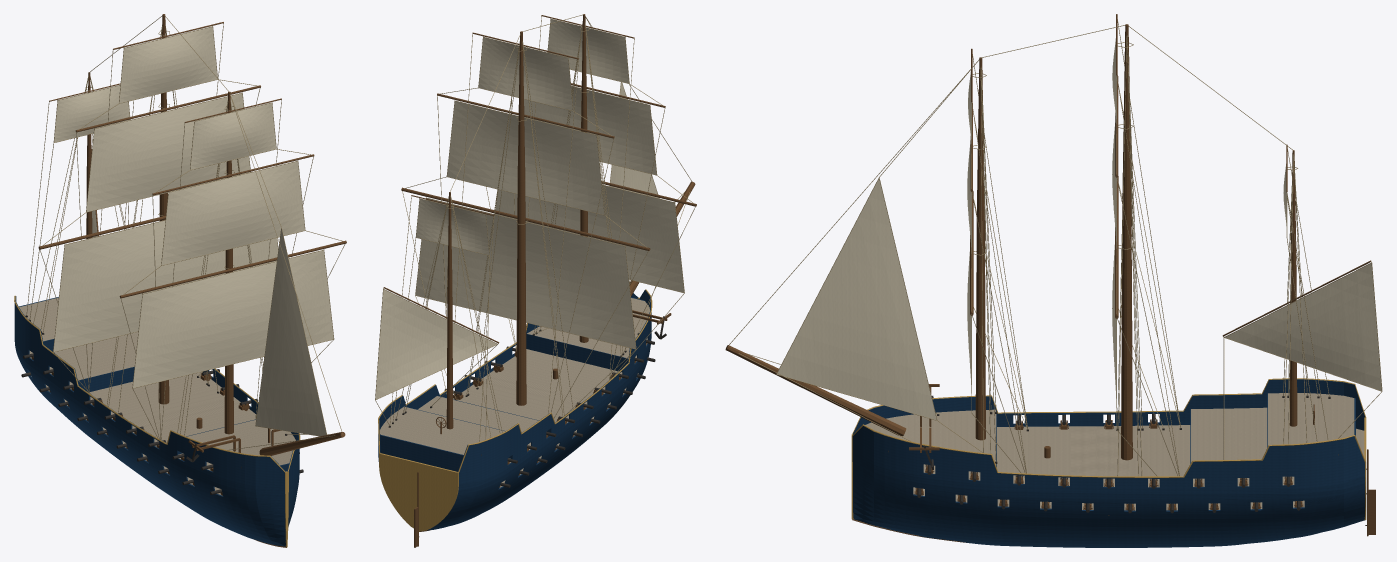
3 renders of one model, left to right at view 1: azimuth 30°, elevation 25°; view 2: azimuth 150°, elevation 25°; view 3: azimuth 270°, elevation 25°, orthographic. The views are drawn at different scales.
Parts seen in each view (by area): view 1: lod1_hull_shell_starboard, lod1_fore_square_00, lod1_main_square_00, lod1_main_square_01, lod1_fore_square_01, lod1_jib_00, lod1_main_deck, lod1_main_square_02, lod1_fore_square_02, lod1_mizzen_square_00, lod1_castle_deck_1, lod1_castle_deck_2 (+13 smaller); view 2: lod1_main_square_00, lod1_main_square_01, lod1_hull_shell_starboard, lod1_fore_square_00, lod1_mizzen_lateen_01, lod1_main_deck, lod1_fore_square_01, lod1_main_square_02, lod1_stern_closure, lod1_fore_square_02, lod1_castle_deck_0, lod1_main (+15 smaller); view 3: lod1_hull_shell_port, lod1_jib_00, lod1_mizzen_lateen_01, lod1_main_deck, lod1_hull_shell_starboard, lod1_main, lod1_castle_deck_1, lod1_castle_deck_0, lod1_castle_deck_2, lod1_fore, lod1_bowsprit, lod1_mizzen (+2 smaller).
Part boxes in pixels (left/top/right/bottom): lod1_hull_shell_starboard: left=14, top=296, right=285, bottom=546; lod1_fore_square_00: left=133, top=250, right=333, bottom=387; lod1_main_square_00: left=53, top=220, right=278, bottom=351; lod1_main_square_01: left=86, top=93, right=250, bottom=211; lod1_fore_square_01: left=161, top=161, right=304, bottom=265; lod1_jib_00: left=255, top=229, right=326, bottom=435; lod1_main_deck: left=29, top=351, right=256, bottom=470; lod1_main_square_02: left=119, top=27, right=217, bottom=103; lod1_fore_square_02: left=190, top=103, right=276, bottom=169; lod1_mizzen_square_00: left=54, top=85, right=129, bottom=142; lod1_castle_deck_1: left=54, top=332, right=138, bottom=380; lod1_castle_deck_2: left=187, top=420, right=295, bottom=465; lod1_main_square_00: left=415, top=198, right=635, bottom=348; lod1_main_square_01: left=447, top=101, right=604, bottom=214; lod1_hull_shell_starboard: left=427, top=290, right=651, bottom=530; lod1_fore_square_00: left=495, top=185, right=684, bottom=292; lod1_mizzen_lateen_01: left=375, top=289, right=496, bottom=399; lod1_main_deck: left=453, top=338, right=647, bottom=463; lod1_fore_square_01: left=524, top=86, right=656, bottom=174; lod1_main_square_02: left=478, top=37, right=572, bottom=110; lod1_stern_closure: left=379, top=453, right=458, bottom=531; lod1_fore_square_02: left=548, top=19, right=628, bottom=83; lod1_castle_deck_0: left=380, top=406, right=504, bottom=454; lod1_main: left=516, top=31, right=526, bottom=405; lod1_hull_shell_port: left=852, top=426, right=1364, bottom=547; lod1_jib_00: left=777, top=178, right=936, bottom=419; lod1_mizzen_lateen_01: left=1225, top=263, right=1381, bottom=390; lod1_main_deck: left=923, top=425, right=1364, bottom=487; lod1_hull_shell_starboard: left=853, top=379, right=1365, bottom=434; lod1_main: left=1121, top=24, right=1132, bottom=460; lod1_castle_deck_1: left=1191, top=407, right=1267, bottom=462; lod1_castle_deck_0: left=1268, top=393, right=1354, bottom=445; lod1_castle_deck_2: left=865, top=409, right=996, bottom=465; lod1_fore: left=975, top=57, right=985, bottom=440; lod1_bowsprit: left=725, top=345, right=906, bottom=436; lod1_mizzen: left=1289, top=150, right=1297, bottom=426.
Size of the model in its own units: 28.61 by 49.53 by 56.38.
Materials: 7 (7 with a texture image).
